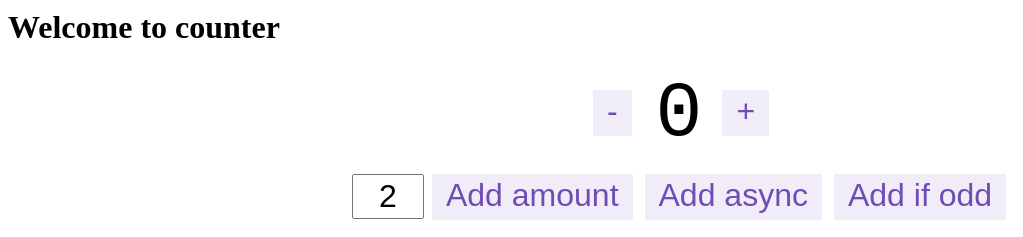
Test: <Counter /> › increases amount by 1 on click `+` button.
Expected: the text titled "Counter value" reads "0", [656,70,702,158]
Click the button "+".
click(746, 113)  # box [722,90,769,136]
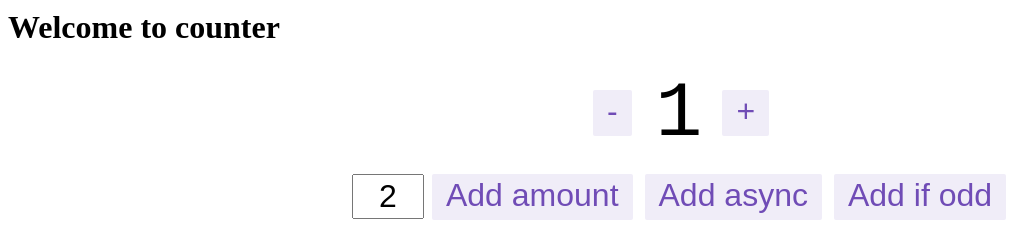
Result: the text titled "Counter value" reads "1" at [656,70,702,158]
